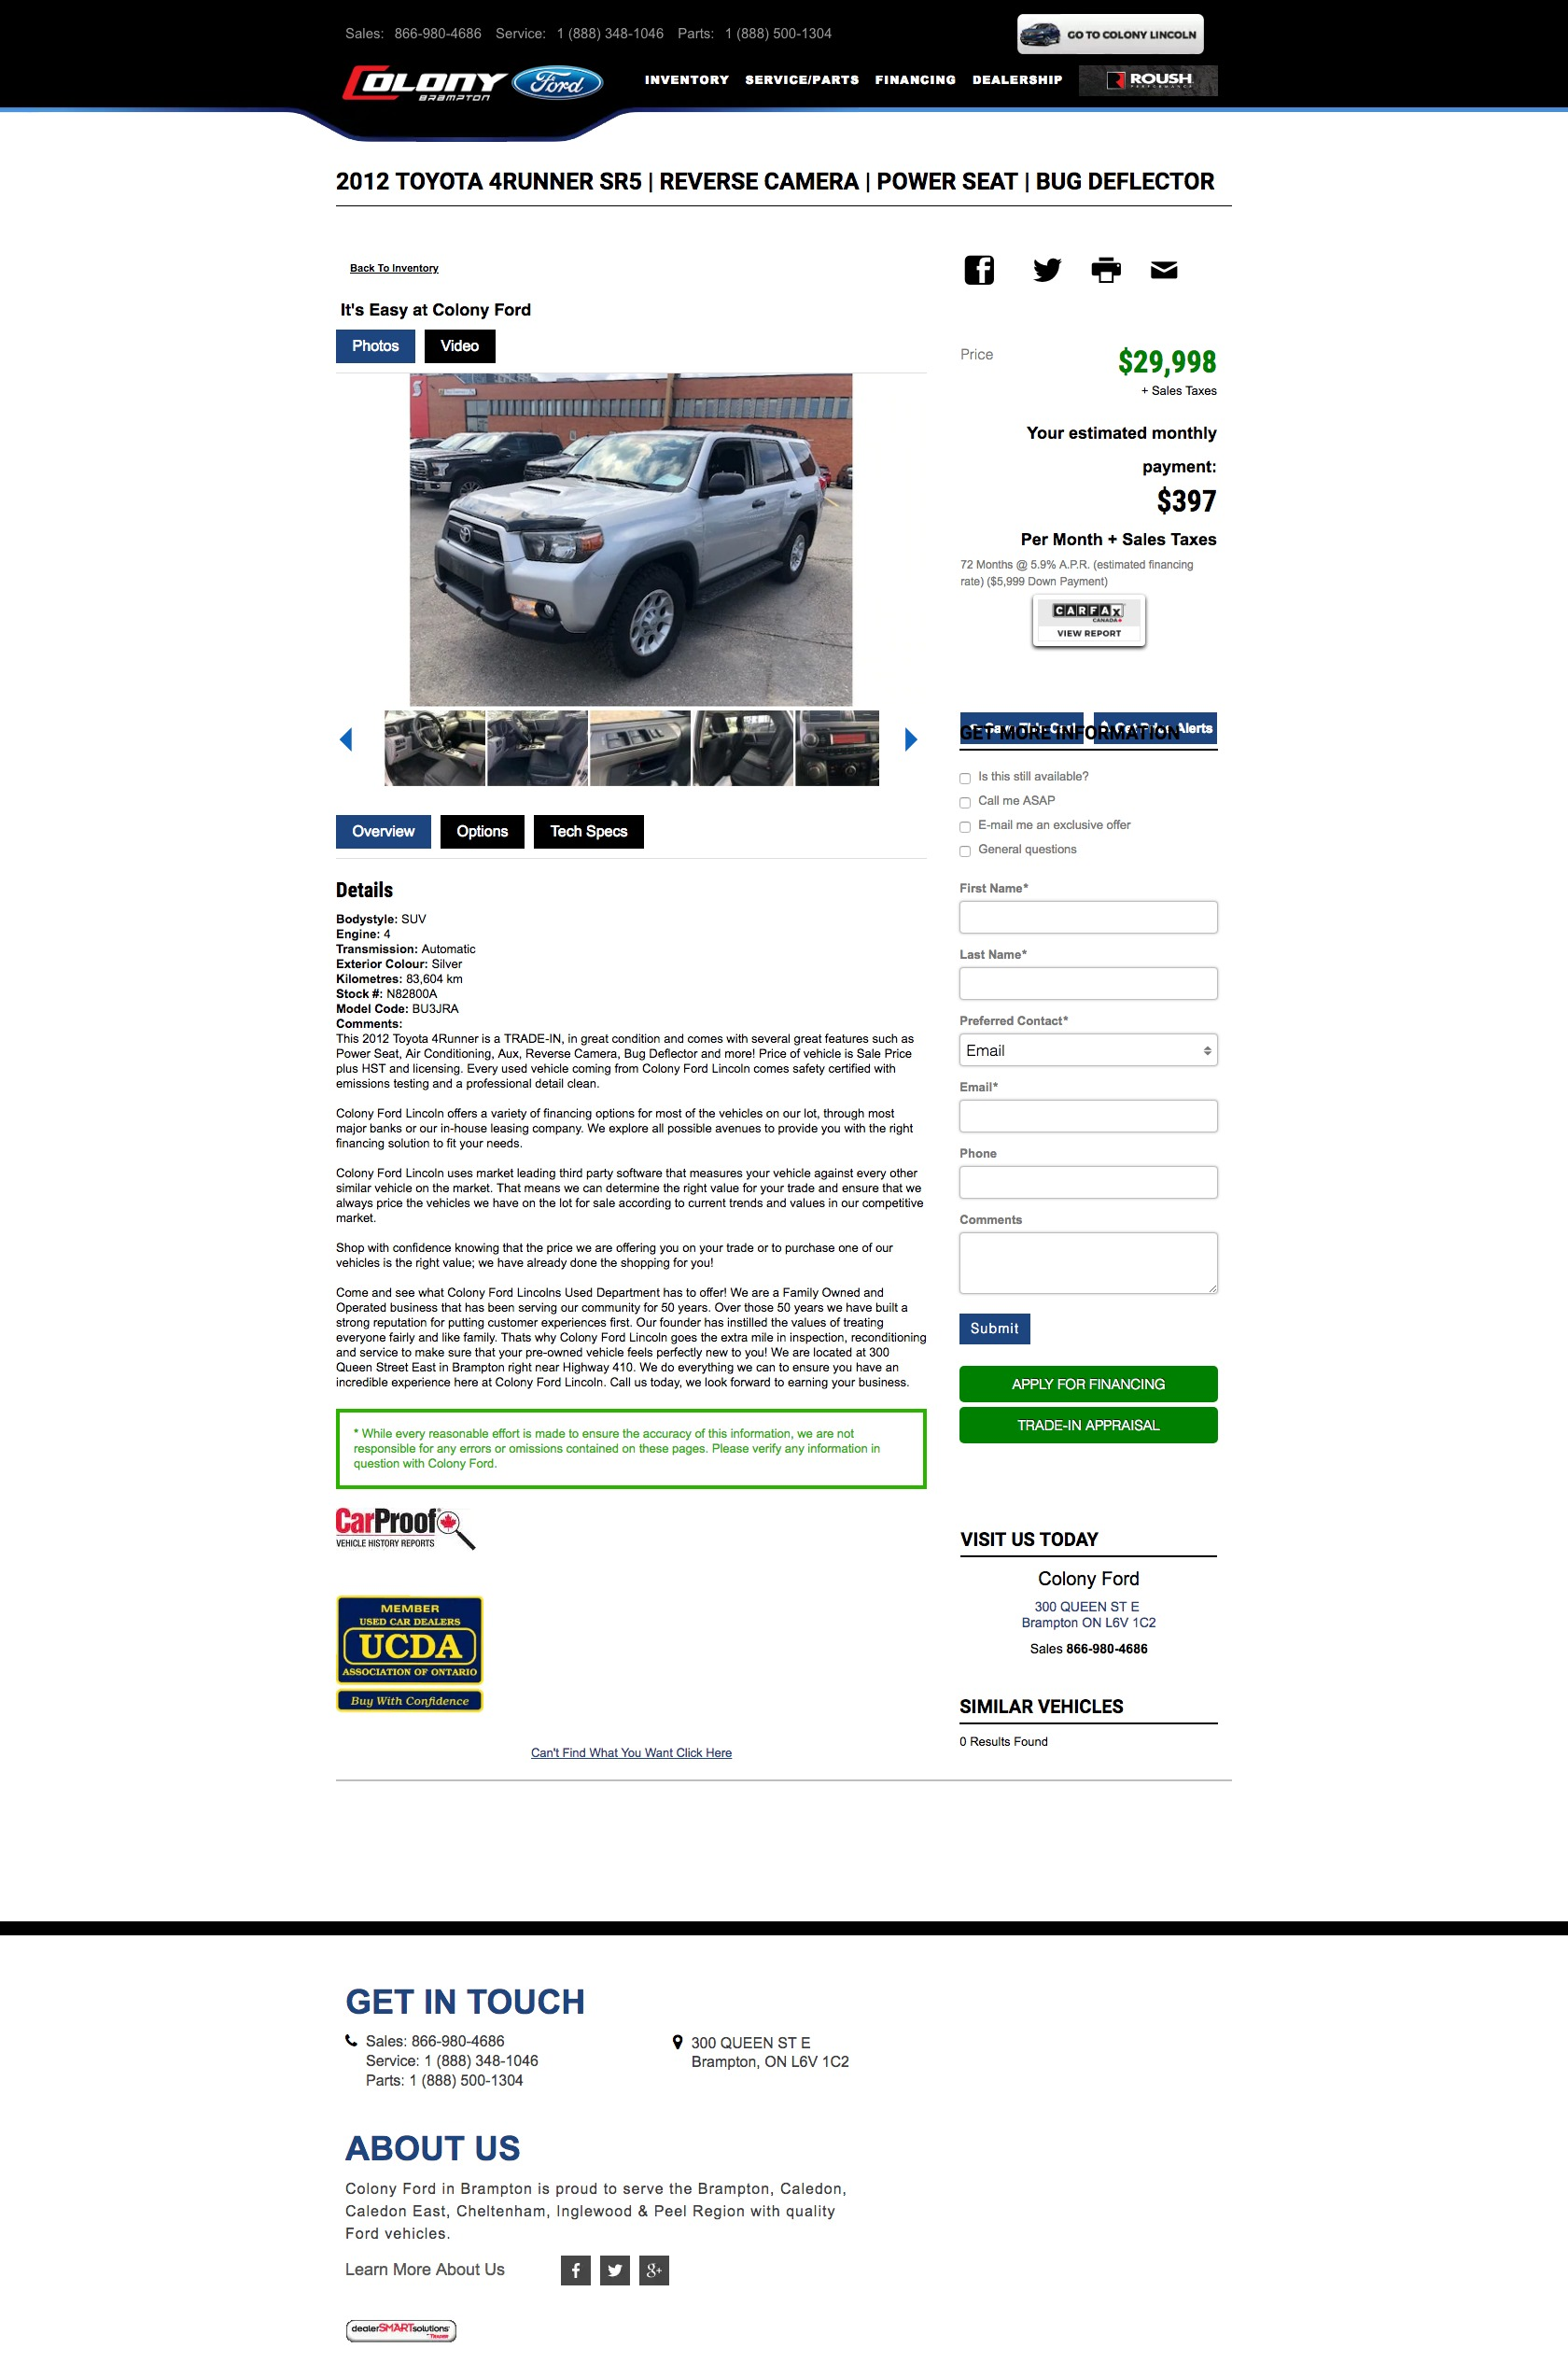car: (905, 728, 919, 754)
